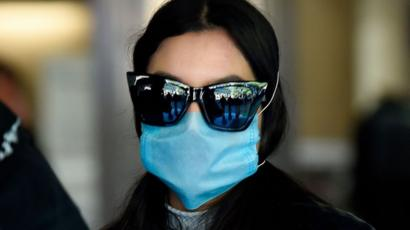with_mask: (129, 18, 279, 201)
